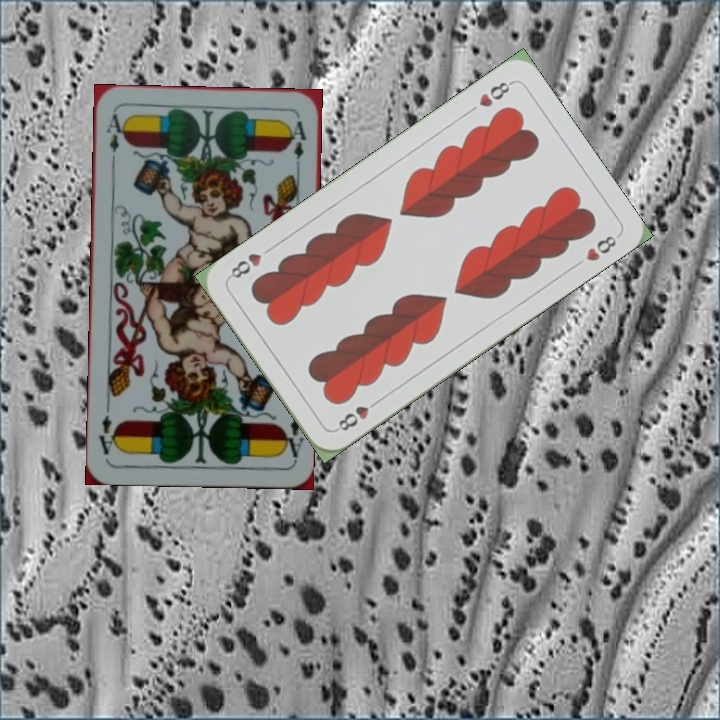EA: (279, 414, 306, 463), (103, 109, 127, 155)
H8: (331, 395, 383, 434), (474, 77, 516, 110)
